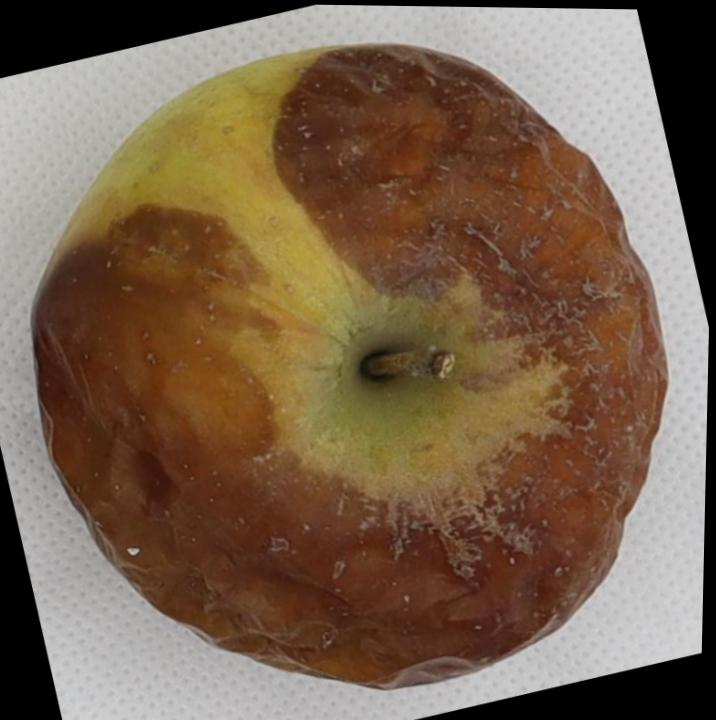apple: (31, 45, 667, 686)
rot_mold_decay: (34, 46, 666, 687)
